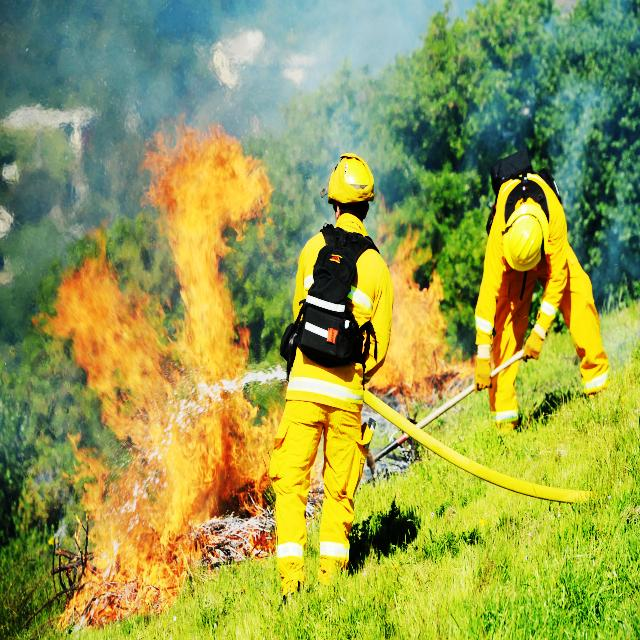api: (52, 117, 295, 629), (362, 231, 481, 400)
